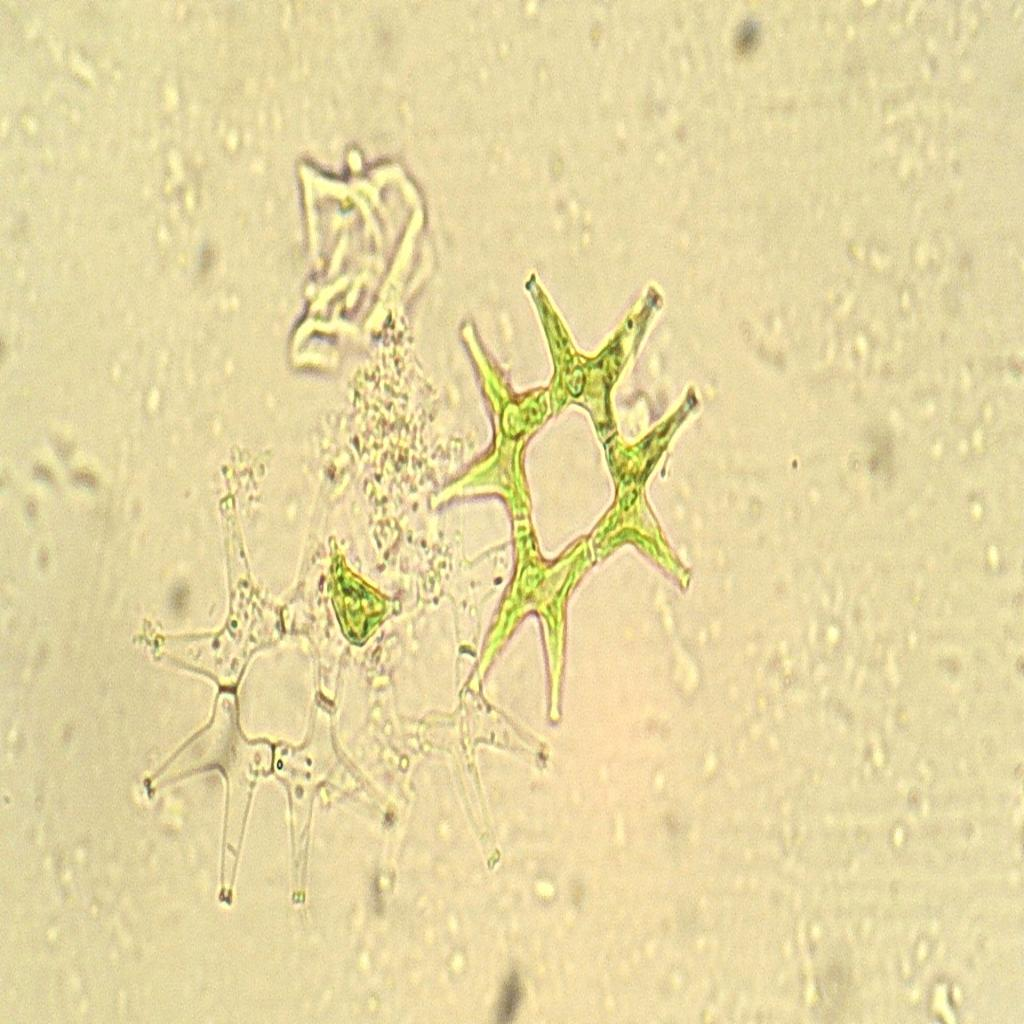Pediastrum_75O: (418, 246, 709, 746)
